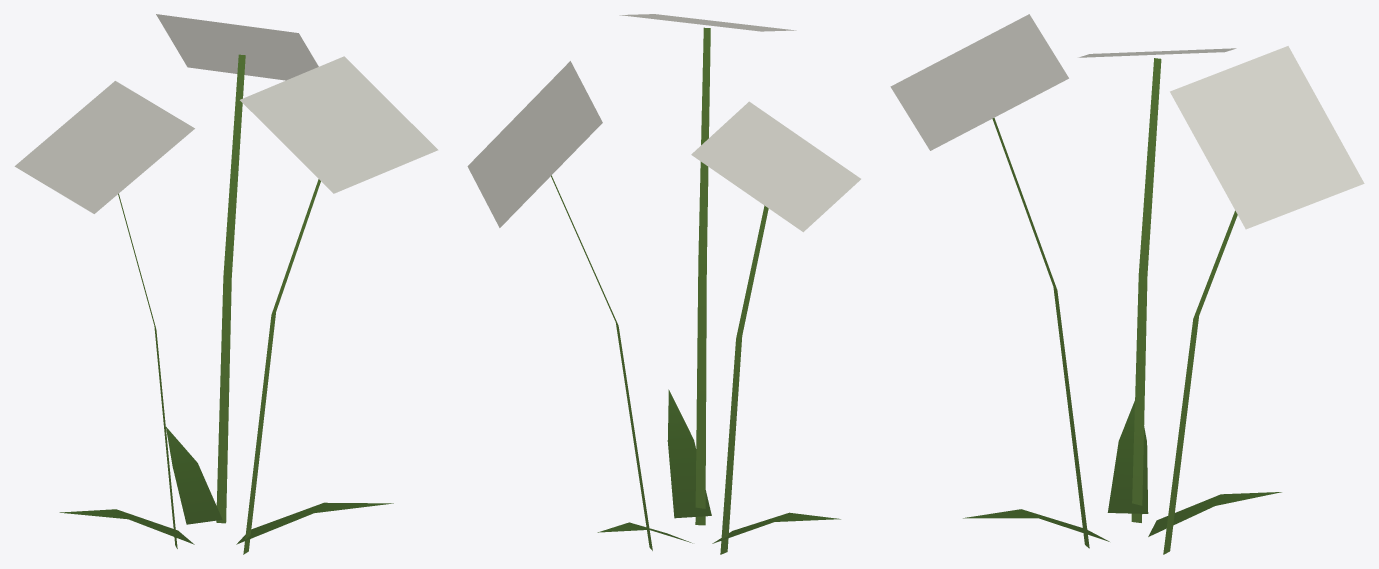
Rendered from flower.meadow.white.glb.
3 renders of one model, left to right at view 1: azimuth 30°, elevation 25°; view 2: azimuth 150°, elevation 25°; view 3: azimuth 270°, elevation 25°, orthographic. The views are drawn at different scales.
Parts seen in each view (by area): view 1: flower_meadow_white; view 2: flower_meadow_white; view 3: flower_meadow_white.
Part boxes in pixels (x1,y1,x2,y2): flower_meadow_white: (14,14,438,554); flower_meadow_white: (467,14,860,554); flower_meadow_white: (890,14,1364,554).
Size of the model in its own units: 0.2979 by 0.4204 by 0.3506.
